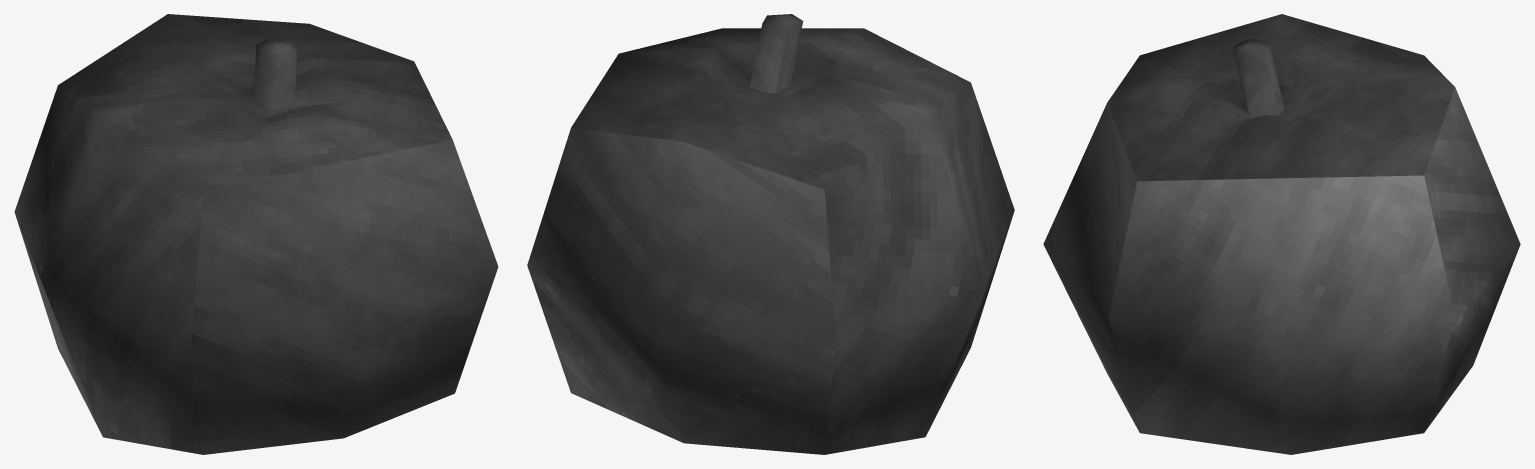
File: AppleLowPoly.fbx
3 views of the same model, side by side, from view 1: azimuth 30°, elevation 25°; view 2: azimuth 150°, elevation 25°; view 3: azimuth 270°, elevation 25° (orthographic). The views are drawn at different scales.
Visible parts, largest first — view 1: Cube.001; view 2: Cube.001; view 3: Cube.001.
Part boxes in pixels (x1=…): Cube.001: x1=14, y1=14, x2=498, y2=454; Cube.001: x1=527, y1=14, x2=1014, y2=454; Cube.001: x1=1043, y1=14, x2=1520, y2=454.
Size of the model in its own units: 161 by 143 by 168.
Materials: 1 (1 with a texture image).
